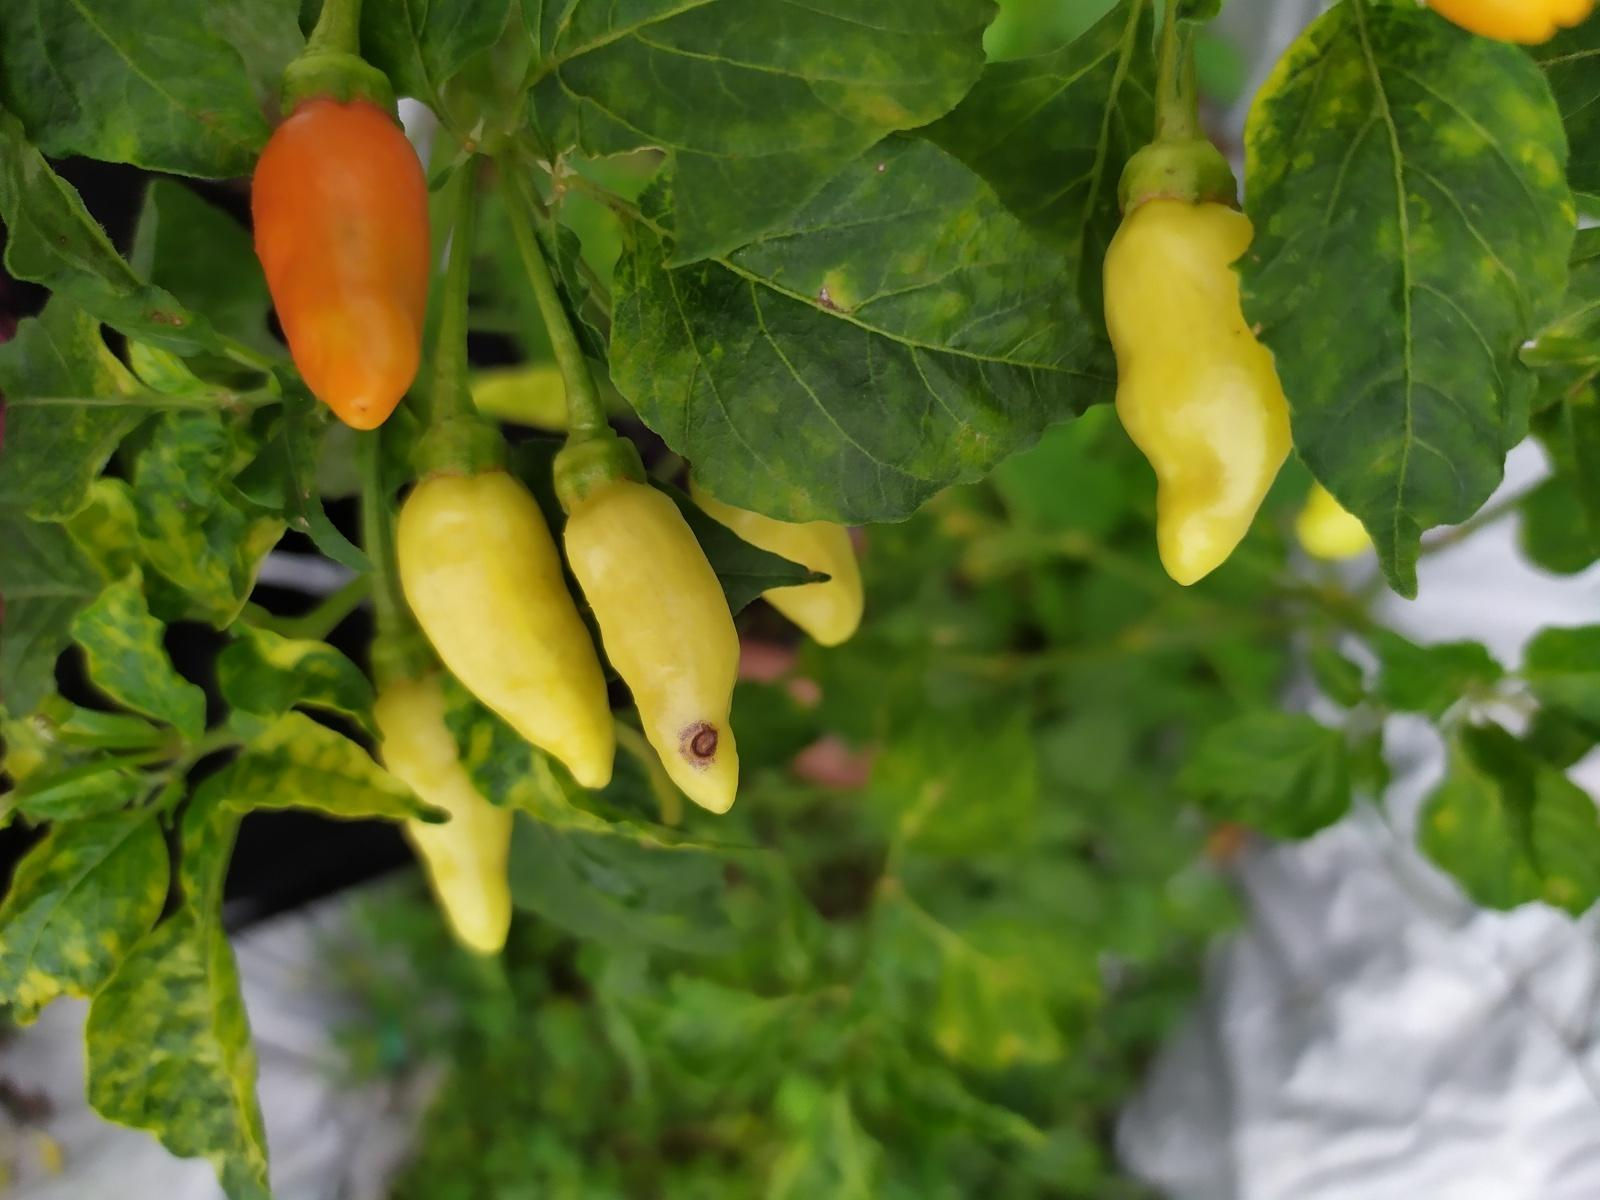antraknosa: (563, 473, 741, 814)
cabai_normal: (1103, 192, 1295, 588), (397, 464, 617, 790), (250, 81, 433, 432), (373, 668, 518, 958)
